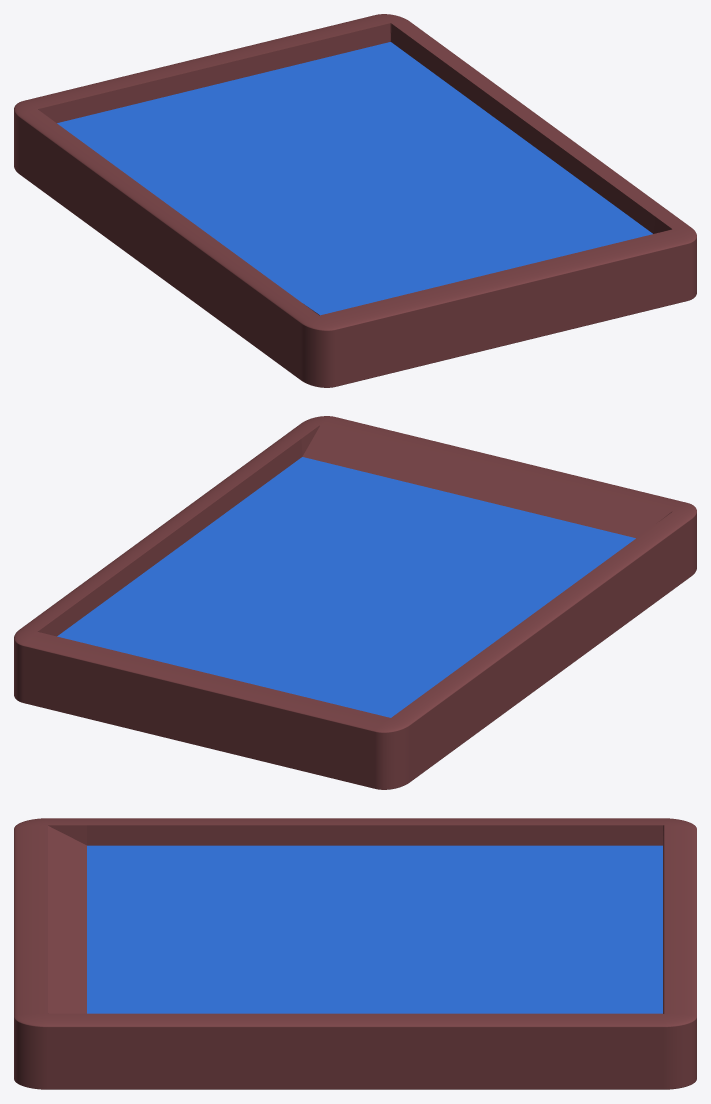
Rendered from TabletteRouge.fbx.
3 renders of one model, top to bottom at view 1: azimuth 30°, elevation 25°; view 2: azimuth 150°, elevation 25°; view 3: azimuth 270°, elevation 25°, orthographic. The views are drawn at different scales.
Visible parts, largest first — view 1: Cube; view 2: Cube; view 3: Cube.
Part boxes in pixels (x1,y1,x2,y2): Cube: (14,14,696,387); Cube: (14,416,696,789); Cube: (14,818,696,1089).
Bounding box in the file's own units: 130 × 20 × 180.
